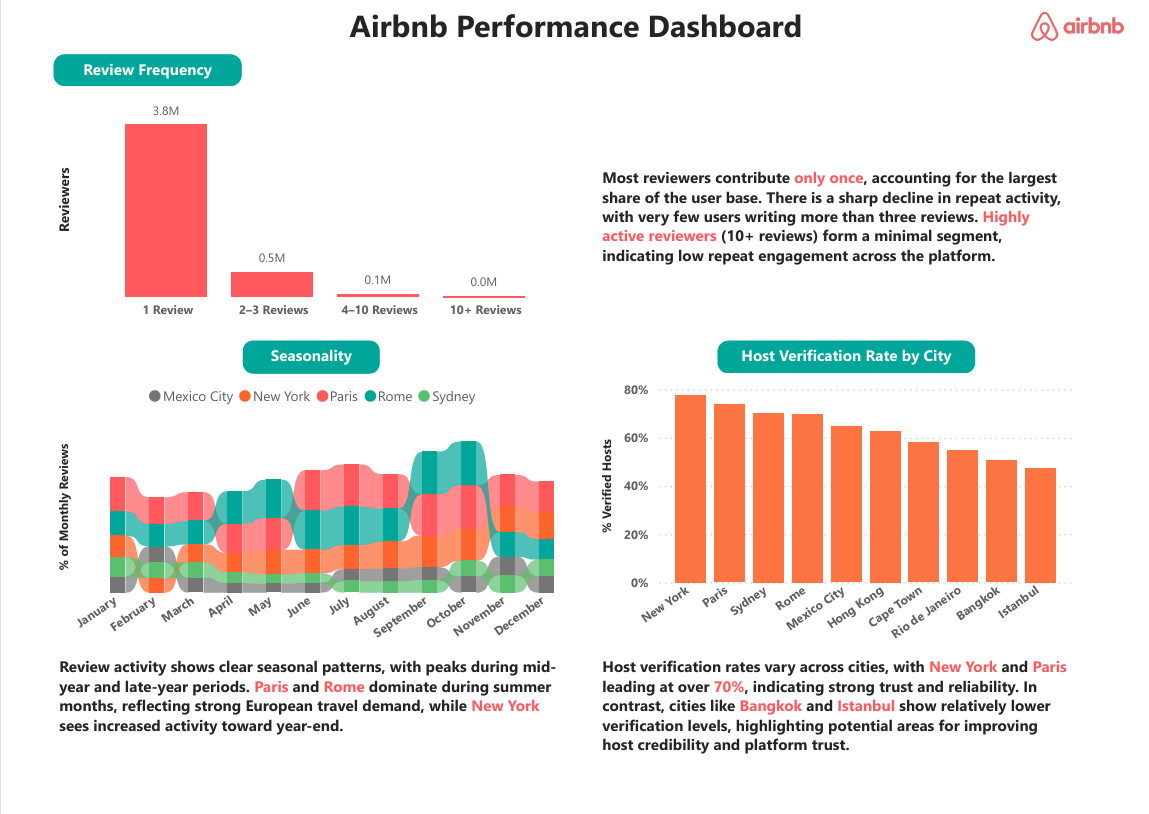

What the dashboard file says about the page in this screenshot:
{"tool":"powerbi","page":{"name":"Reviews","canvas":[960,720],"ordinal":2},"visuals":[{"type":"textbox","box":[270.3,0,419.4,48.9],"z":0},{"type":"image","box":[879.2,0,80.7,48.9],"z":1000},{"type":"textbox","box":[22,48.9,165.1,28.1],"z":2000},{"type":"textbox","box":[604.4,300,225.6,28.9],"z":3000},{"type":"columnChart","fields":{"Category":["Reviews.Reviewer Segments"],"Y":["Reviews.Reviewers"]},"box":[22.2,76.7,457.8,213.3],"z":5000},{"type":"textbox","box":[497.8,143.3,422.2,106.7],"z":6000},{"type":"columnChart","fields":{"Category":["Listings.city"],"Y":["Listings.% Verified Hosts"]},"box":[497.8,328.9,422.2,243.3],"z":7000},{"type":"textbox","box":[497.8,572.2,422.2,98.9],"z":8000},{"type":"ribbonChart","fields":{"Category":["Reviews.date.Variation.Date Hierarchy.Month"],"Y":["Sum(Reviews.% of Monthly Reviews)"],"Series":["Listings.city"]},"box":[22.2,328.9,457.8,243.3],"z":9000},{"type":"textbox","box":[187.8,300,120,28.9],"z":10000},{"type":"textbox","box":[22.2,572.2,457.8,98.9],"z":11000}]}

Visuals, with their boxes on the page's 960x720 design canvas (x1, y1, x2, y2). These are canvas units, not pixel positions in the 1149x814 screenshot, which may show the page scaled, cropped or inside an application window:
textbox: [x1=270, y1=0, x2=690, y2=49]
image: [x1=879, y1=0, x2=960, y2=49]
textbox: [x1=22, y1=49, x2=187, y2=77]
textbox: [x1=604, y1=300, x2=830, y2=329]
columnChart - Reviews.Reviewer Segments x Reviews.Reviewers: [x1=22, y1=77, x2=480, y2=290]
textbox: [x1=498, y1=143, x2=920, y2=250]
columnChart - Listings.city x Listings.% Verified Hosts: [x1=498, y1=329, x2=920, y2=572]
textbox: [x1=498, y1=572, x2=920, y2=671]
ribbonChart - Reviews.date.Variation.Date Hierarchy.Month x Sum(Reviews.% of Monthly Reviews): [x1=22, y1=329, x2=480, y2=572]
textbox: [x1=188, y1=300, x2=308, y2=329]
textbox: [x1=22, y1=572, x2=480, y2=671]
